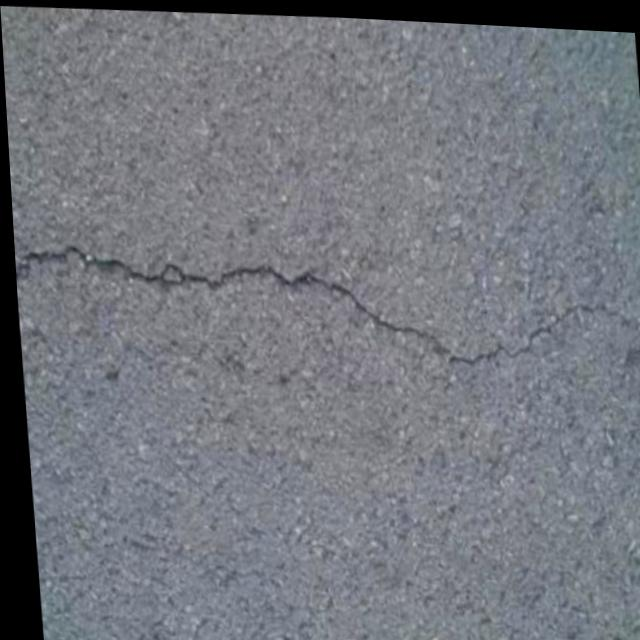Crack: (10, 214, 640, 384)
